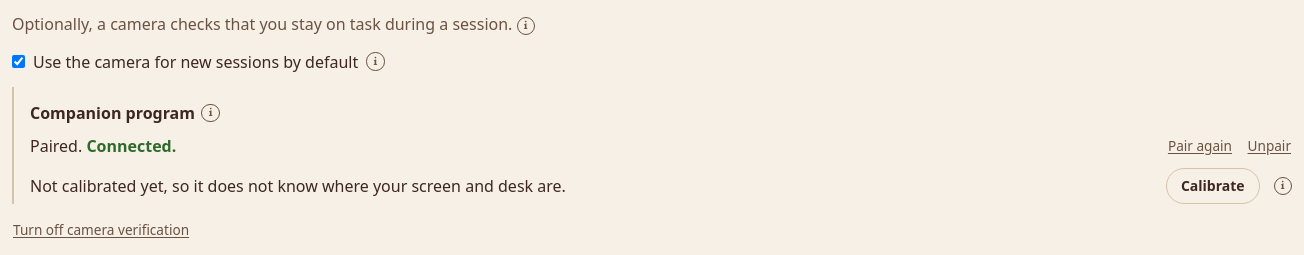
CameraVerificationCard › companion program › unpairs the program
The image size is (1304, 255).
Click the button "Unpair" at point(1269, 146), box [1246,135,1292,158]
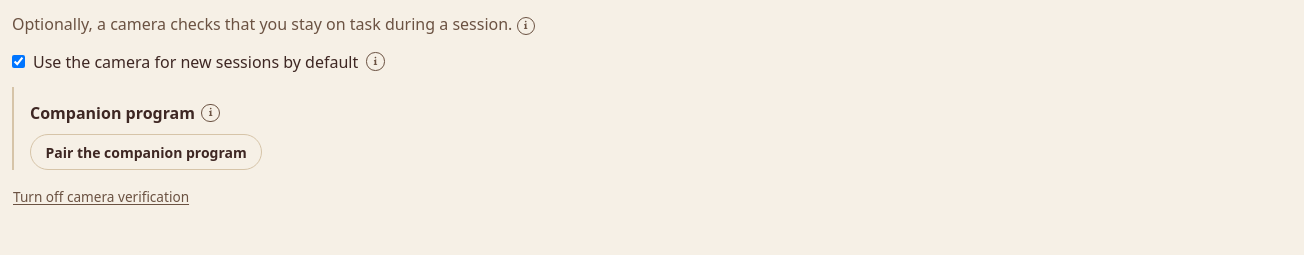
Now the button "Pair the companion program" is shown, box [30,134,262,170]
